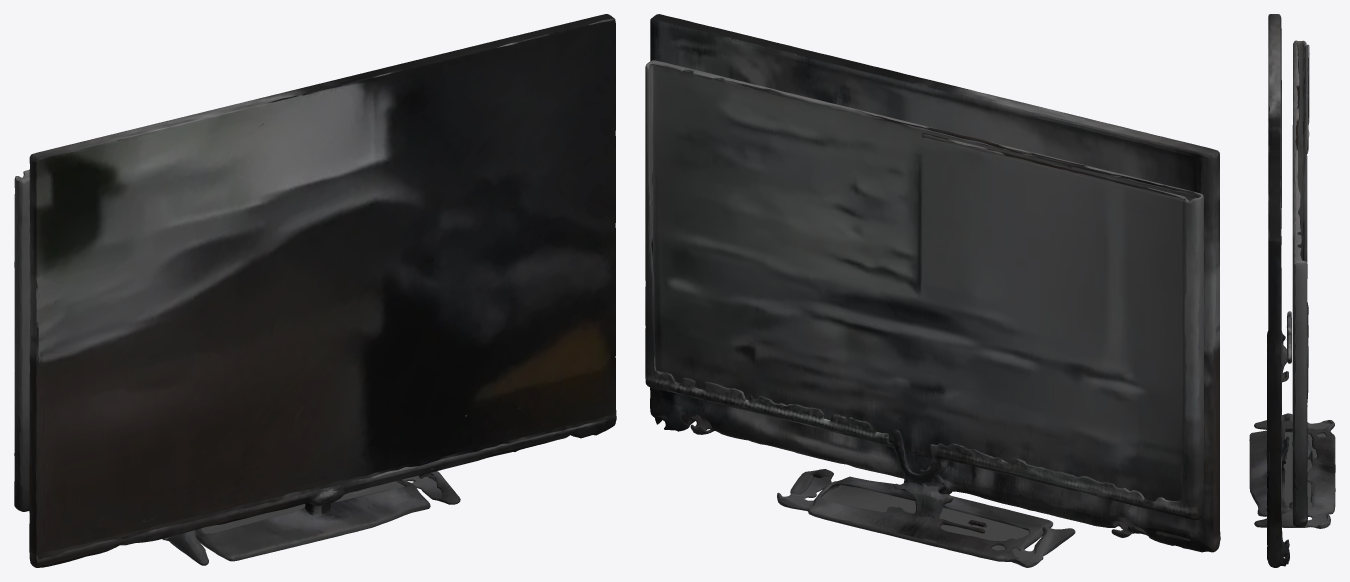
The model's file is room__n27-3.glb.
The picture shows the model from 3 angles, left to right: view 1: azimuth 30°, elevation 25°; view 2: azimuth 150°, elevation 25°; view 3: azimuth 270°, elevation 25°; orthographic projection. The views are drawn at different scales.
Size of the model in its own units: 1.01 by 0.7289 by 0.1611.
Materials: 1 (1 with a texture image).
